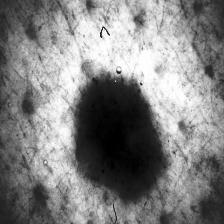Benign Marking or Mole: (78, 77, 164, 199)
